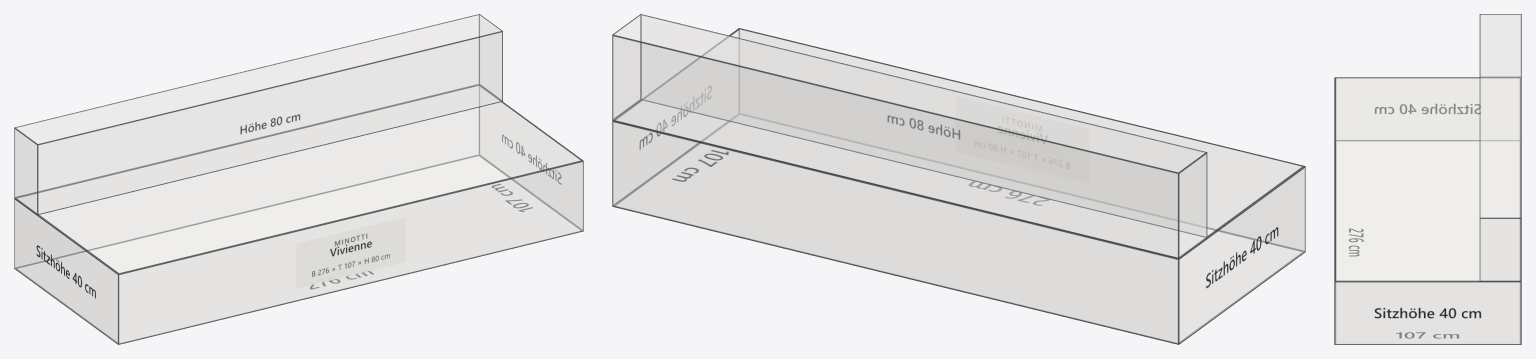
Rendered from armchairs-vivienne-armchairs--sofa-276-cm.glb.
3 renders of one model, left to right at view 1: azimuth 30°, elevation 25°; view 2: azimuth 150°, elevation 25°; view 3: azimuth 270°, elevation 25°, orthographic. The views are drawn at different scales.
Parts seen in each view (by area): view 1: sitz_oben, Grundflaeche, sitz_vorne, ruecken_vorne, ruecken_hinten, sitz_hinten, ruecken_oben, sitz_links, sitz_rechts, ruecken_links, ruecken_rechts; view 2: sitz_oben, Grundflaeche, sitz_hinten, ruecken_hinten, ruecken_vorne, sitz_vorne, ruecken_oben, sitz_links, sitz_rechts, ruecken_links, ruecken_rechts; view 3: sitz_oben, Grundflaeche, sitz_rechts, sitz_links, ruecken_oben, ruecken_rechts, ruecken_links.
Boxes of the visible parts, x1,y1,x2,y2 form: sitz_oben: (15, 84, 583, 274); Grundflaeche: (15, 155, 582, 343); sitz_vorne: (118, 161, 583, 344); ruecken_vorne: (37, 31, 502, 214); ruecken_hinten: (14, 14, 479, 197); sitz_hinten: (14, 86, 479, 267); ruecken_oben: (14, 14, 502, 144); sitz_links: (14, 198, 118, 344); sitz_rechts: (479, 87, 582, 229); ruecken_links: (14, 128, 37, 214); ruecken_rechts: (479, 15, 501, 100); sitz_oben: (614, 28, 1305, 257); Grundflaeche: (613, 114, 1304, 343); sitz_hinten: (612, 121, 1178, 344); ruecken_hinten: (612, 35, 1178, 258); ruecken_vorne: (640, 14, 1206, 237); sitz_vorne: (739, 29, 1304, 251); ruecken_oben: (612, 14, 1206, 172); sitz_links: (1179, 166, 1305, 344); sitz_rechts: (613, 30, 738, 204); ruecken_links: (1179, 152, 1207, 258); ruecken_rechts: (613, 15, 640, 119); sitz_oben: (1334, 77, 1520, 281); Grundflaeche: (1335, 140, 1520, 343); sitz_rechts: (1334, 281, 1521, 344); sitz_links: (1336, 78, 1519, 140); ruecken_oben: (1479, 14, 1521, 217); ruecken_rechts: (1479, 218, 1521, 281); ruecken_links: (1480, 14, 1520, 77).
Bounding box in the file's own units: 2.76 × 0.8 × 1.07.
11 materials, 11 textured.
